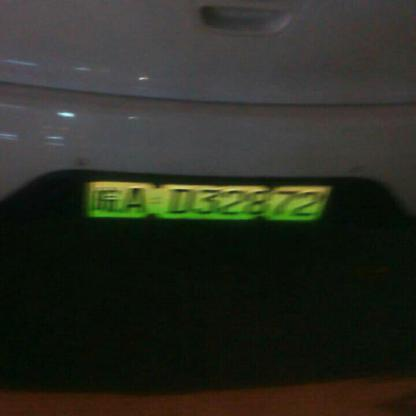lp: (89, 181, 333, 221)
